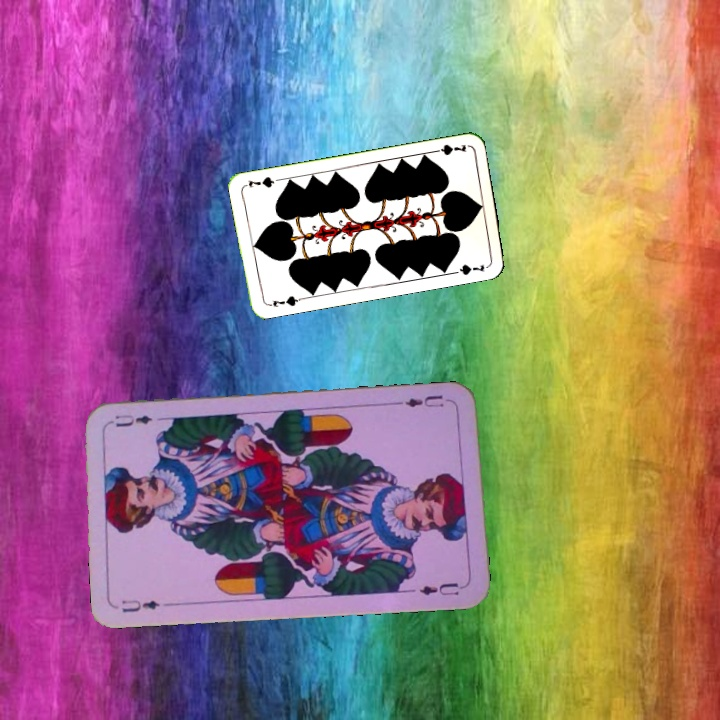EU: (395, 391, 454, 410), (117, 596, 162, 615)
G7: (263, 291, 304, 310), (428, 140, 469, 158)
